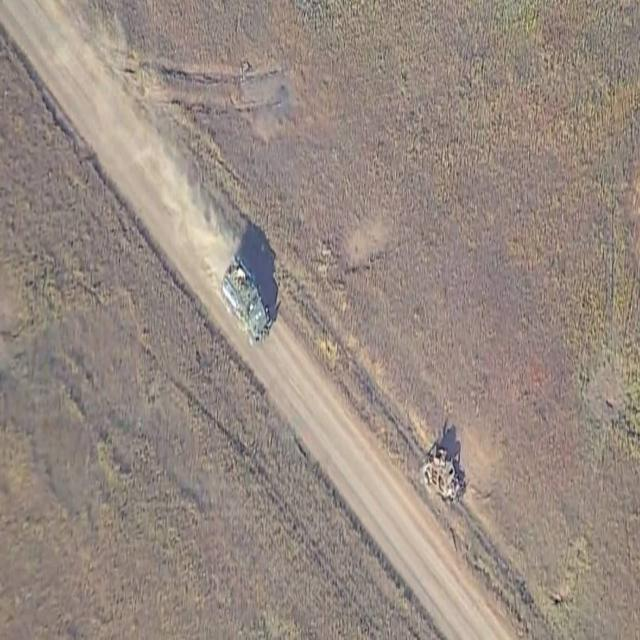Destroyed: (421, 446, 466, 507)
Vehicle: (220, 252, 274, 353)
